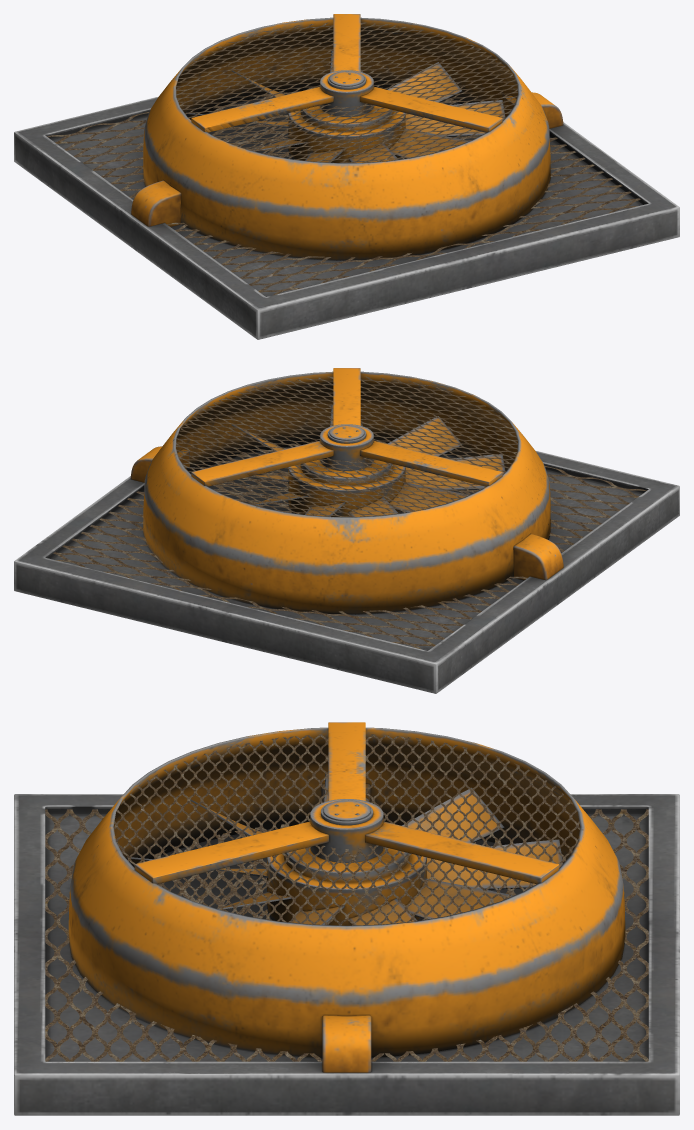
The picture shows the model from 3 angles, top to bottom: view 1: azimuth 30°, elevation 25°; view 2: azimuth 150°, elevation 25°; view 3: azimuth 270°, elevation 25°; orthographic projection. The views are drawn at different scales.
Parts seen in each view (by area): view 1: Object_4, Object_2, Object_3; view 2: Object_4, Object_2, Object_3; view 3: Object_4, Object_2, Object_3.
Part boxes in pixels (x1,y1,x2,y2): Object_4: (14, 14, 679, 339); Object_2: (176, 22, 517, 162); Object_3: (47, 87, 640, 295); Object_4: (14, 368, 679, 693); Object_2: (176, 376, 517, 516); Object_3: (53, 441, 646, 649); Object_4: (14, 722, 679, 1115); Object_2: (114, 734, 579, 925); Object_3: (45, 809, 648, 1061).
Size of the model in its own units: 162 by 44.52 by 162.
Materials: 3 (3 with a texture image).
